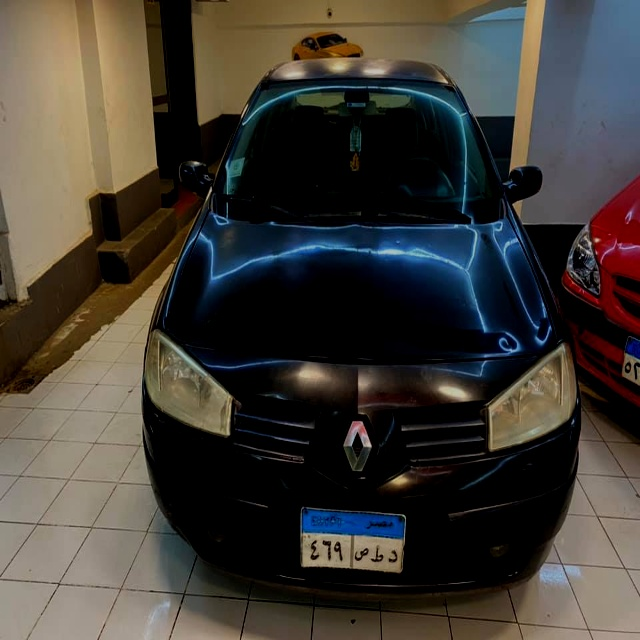License Plate: (298, 506, 407, 576)
